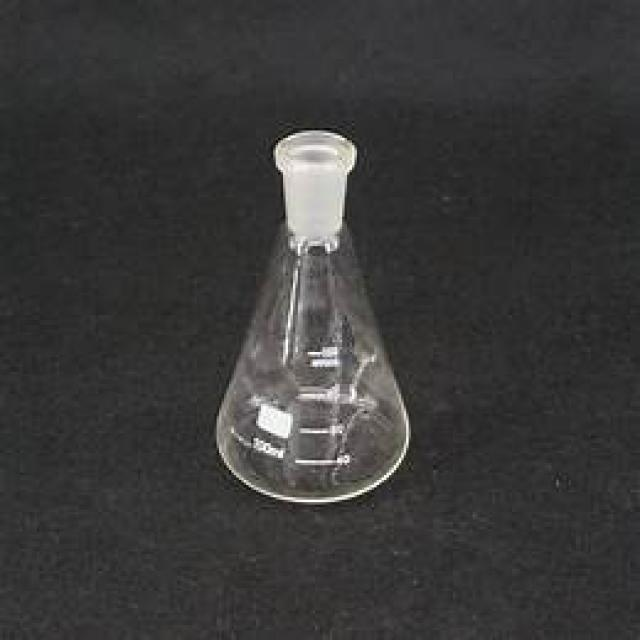Titrarion: (216, 110, 413, 505)
